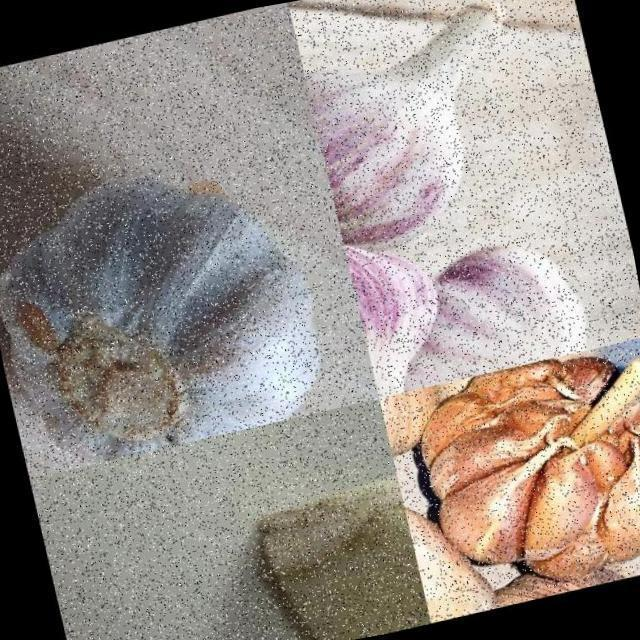garlic: (0, 136, 338, 479), (294, 0, 559, 271), (401, 335, 640, 611), (358, 217, 640, 396), (242, 468, 429, 640), (426, 344, 624, 444)
